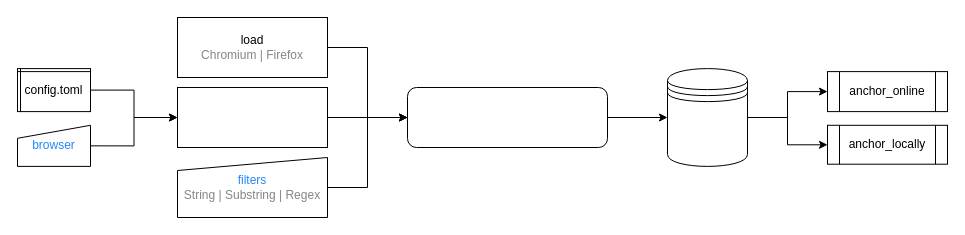
Some shapes in this 965 by 235 pixel diagram are drawn without their labels. The centre of each missing label's shape, as x and y in pixels:
".bookmarks .n_dirs" goes at (707,117).
"bookmarks(load(path( browser )), * filters )" goes at (507,117).
"path" goes at (252,117).
